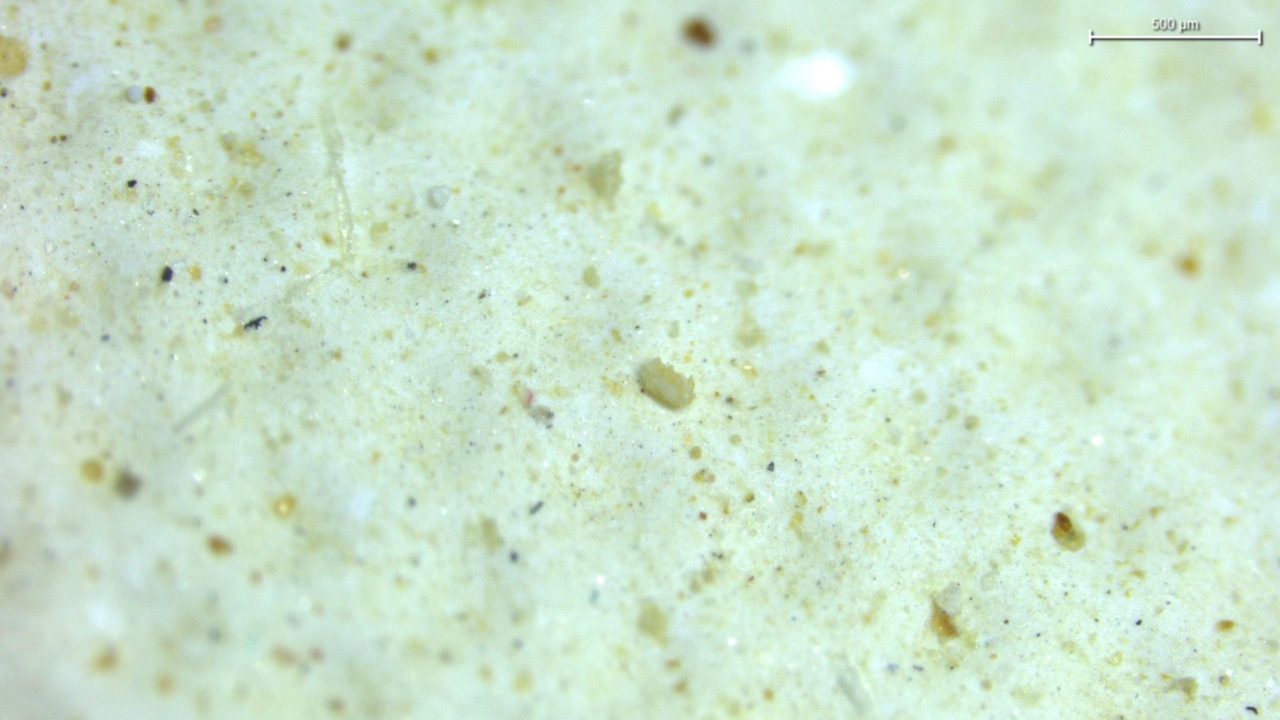microplastic_fragment: (638, 358, 694, 408)
